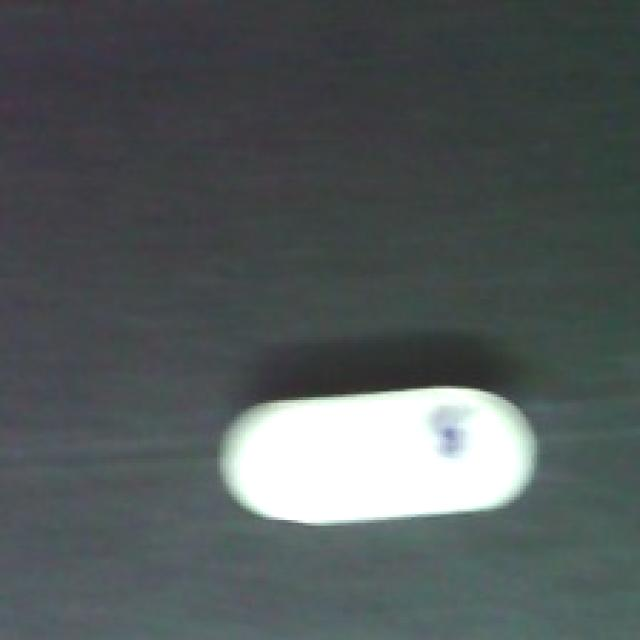defected: (217, 383, 543, 534)
